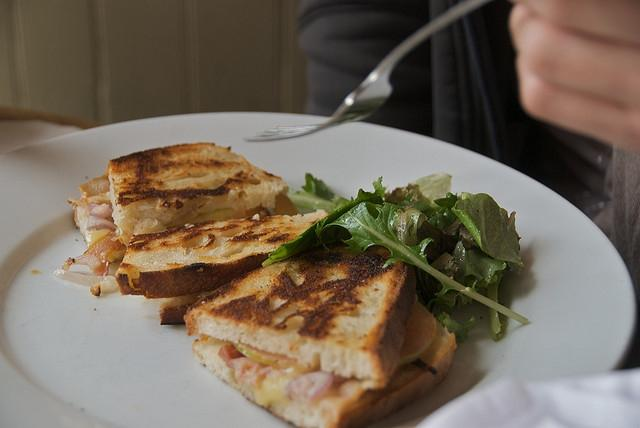lettuce: (319, 202, 532, 328), (262, 176, 386, 268), (451, 193, 525, 270), (452, 240, 507, 288), (392, 206, 428, 246), (410, 172, 452, 204)
onion: (52, 268, 120, 296), (284, 370, 333, 400), (62, 253, 100, 272), (86, 214, 115, 231), (90, 204, 110, 219)
